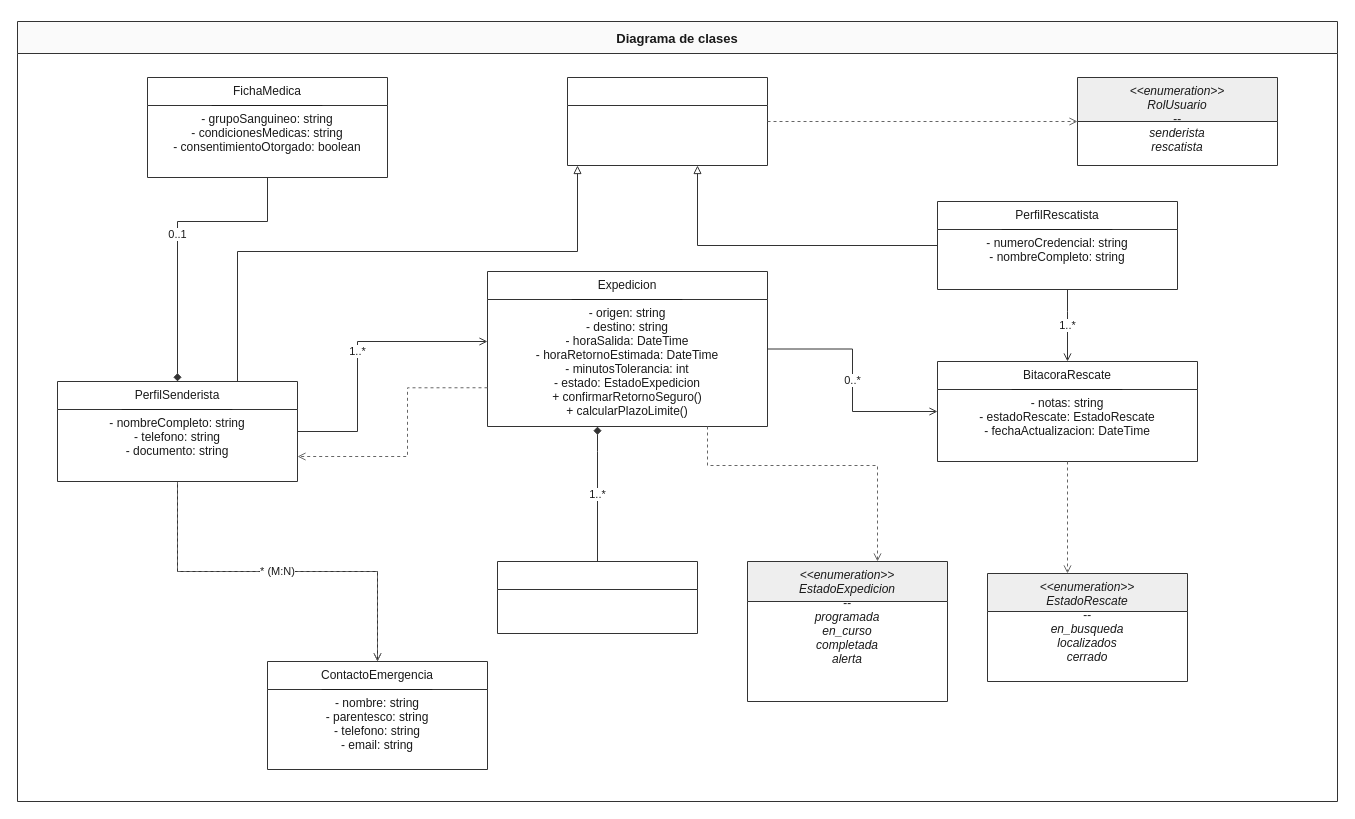
The diagram is 1355 pixels wide and 819 high, and some of its shapes have lost their labels. Each missing label, with the box of its shape:
Acompanante ───────────── - nombre: string: (496, 560, 698, 634)
Usuario ───────────── - email: string - rol: RolUsuario: (566, 76, 768, 166)
